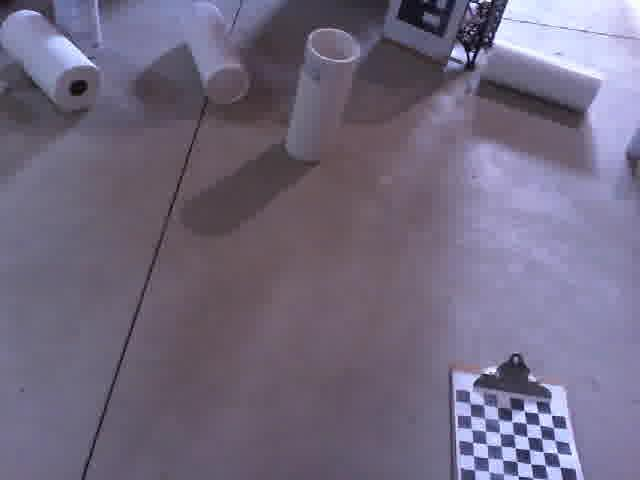coral: (470, 35, 605, 114), (0, 9, 103, 109), (285, 27, 360, 158), (173, 0, 249, 107)
